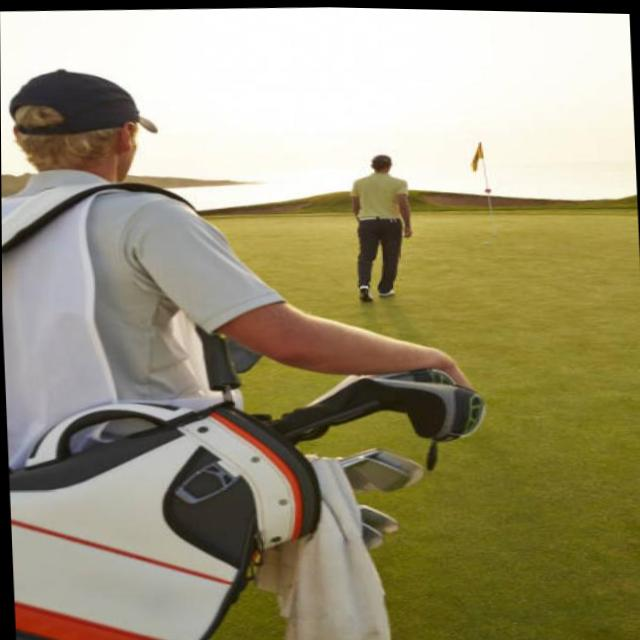no helmet: (0, 56, 165, 189)
